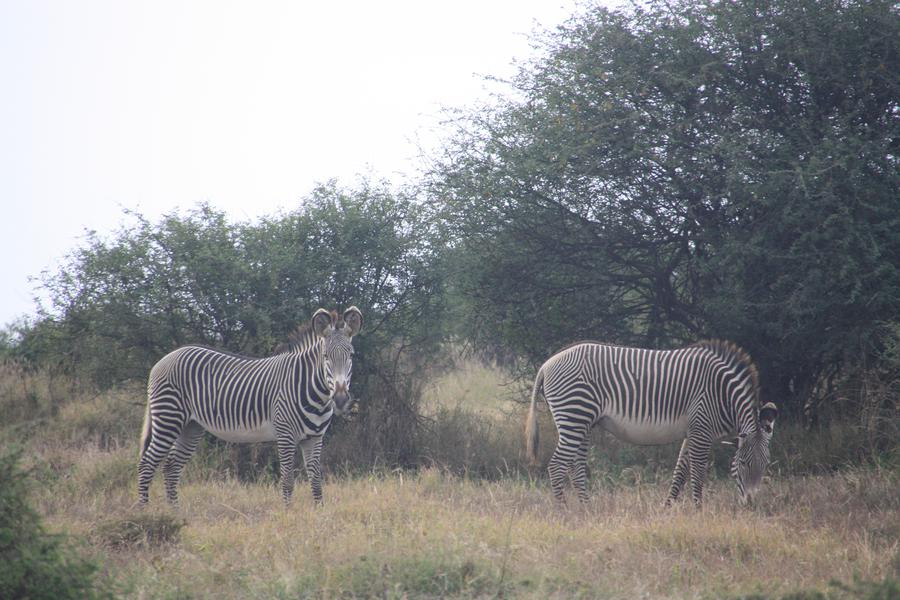zebra_grevys: (538, 333, 715, 438)
